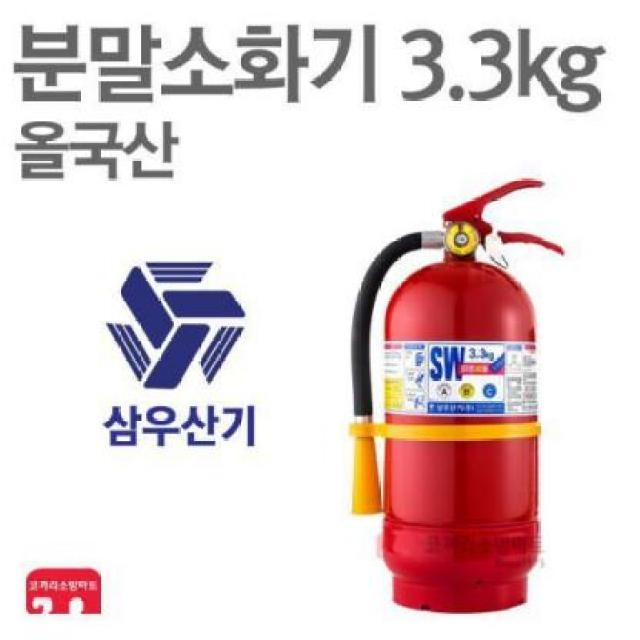fire extinguisher: (351, 176, 565, 615)
